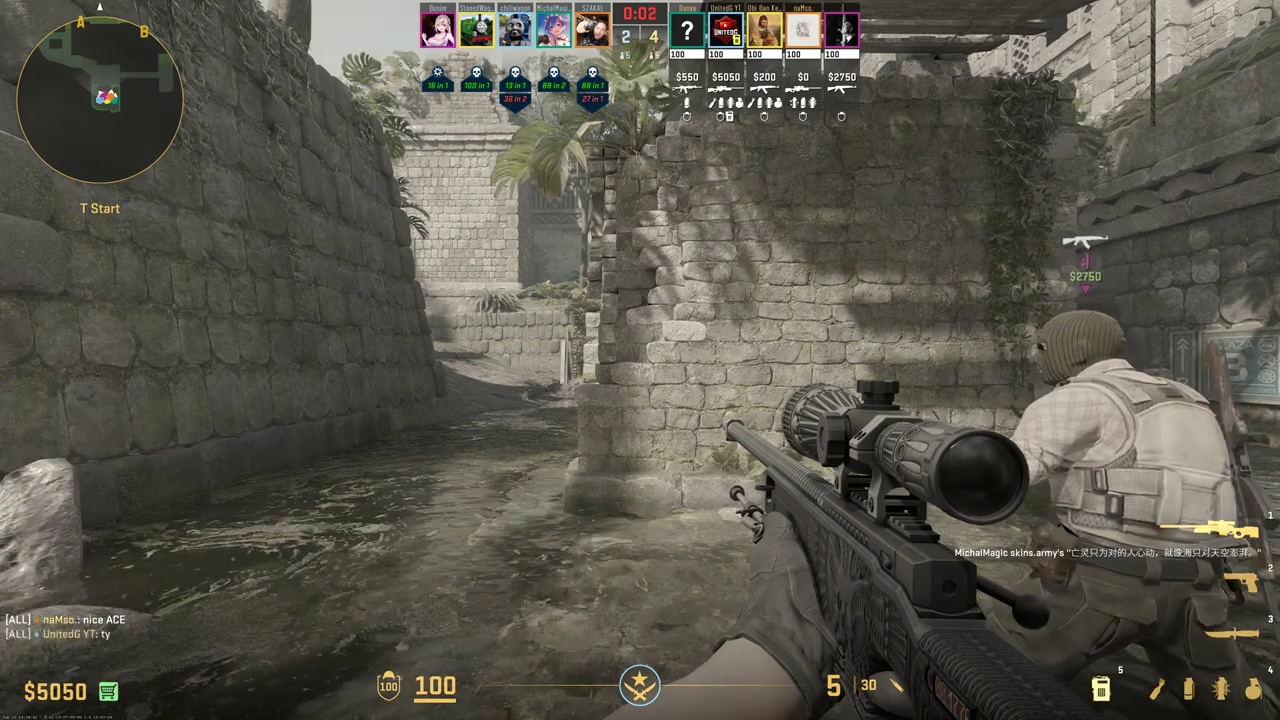Terrorist: (1020, 312, 1265, 715)
